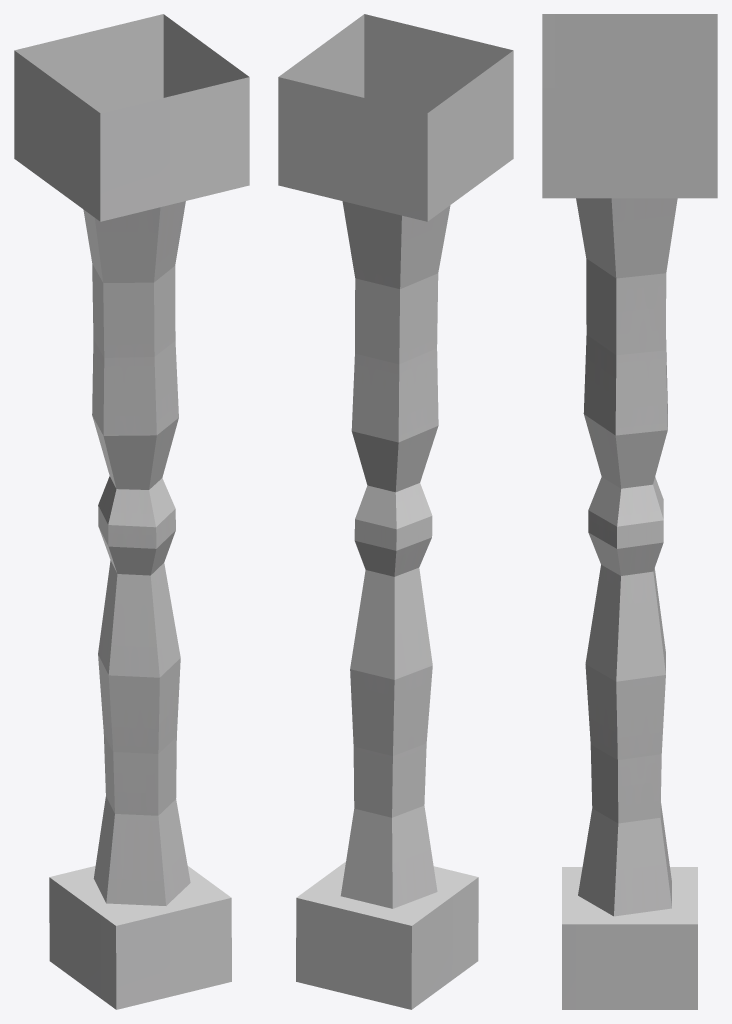
File: Museum_Balustrade.fbx
3 views of the same model, side by side, from view 1: azimuth 30°, elevation 25°; view 2: azimuth 150°, elevation 25°; view 3: azimuth 270°, elevation 25° (orthographic).
Visible parts, largest first — view 1: Cylinder; view 2: Cylinder; view 3: Cylinder.
Boxes of the visible parts, <box> form: Cylinder: <box>14,14,249,1009</box>; Cylinder: <box>278,14,513,1009</box>; Cylinder: <box>542,14,717,1009</box>.
Size of the model in its own units: 17.28 by 101 by 17.28.
